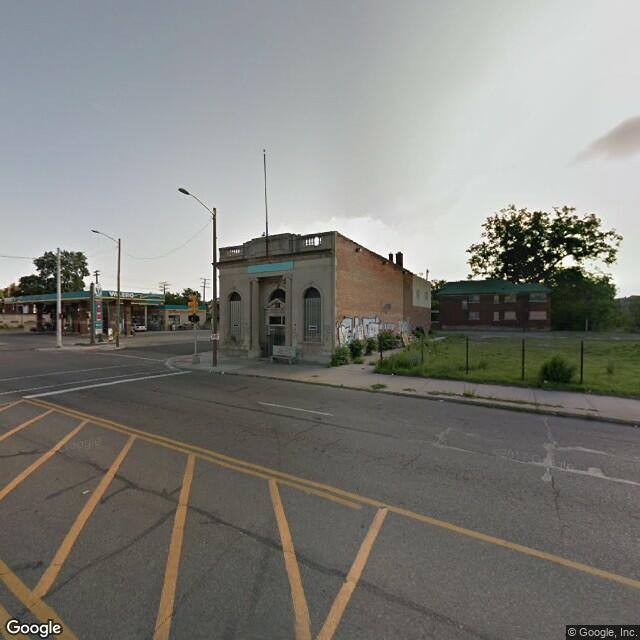litter: (436, 396, 448, 405), (542, 377, 548, 384), (390, 369, 395, 376), (220, 369, 225, 375)
